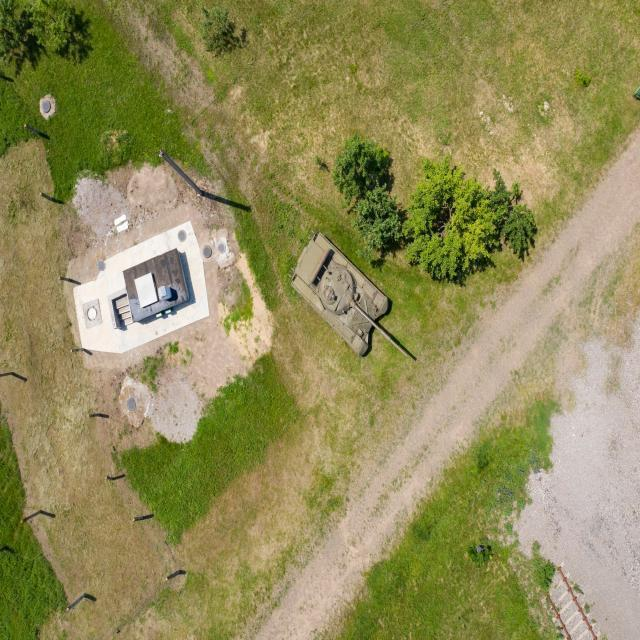Tanks: (283, 228, 415, 362)
